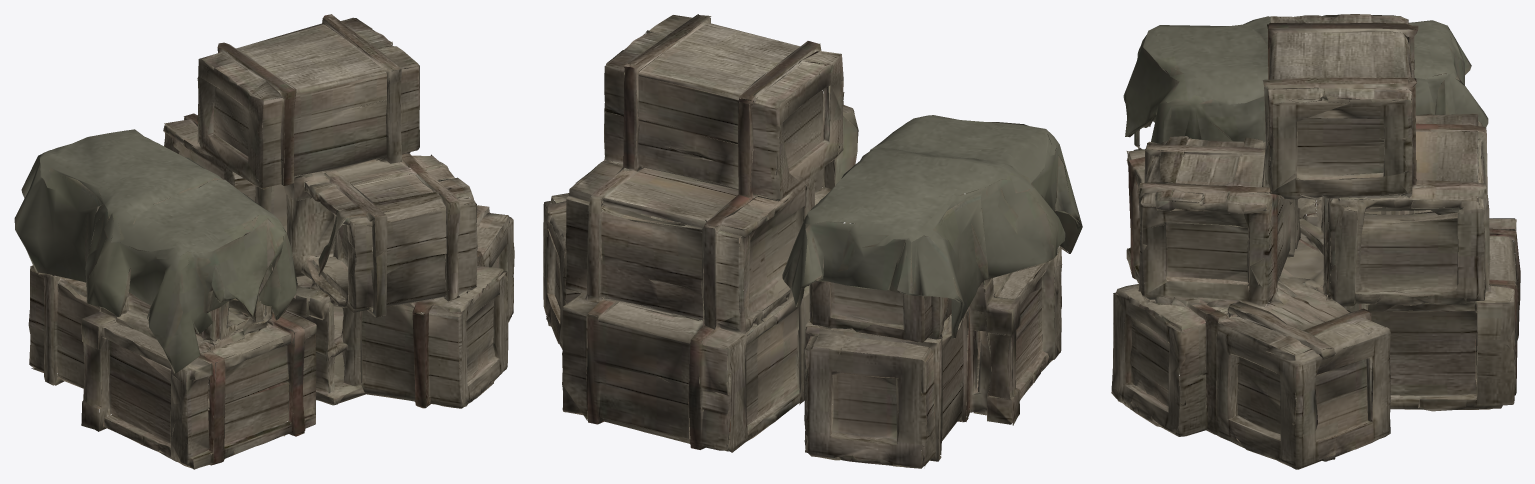
File: crate-mound.glb
3 renders of one model, left to right at view 1: azimuth 30°, elevation 25°; view 2: azimuth 150°, elevation 25°; view 3: azimuth 270°, elevation 25°, orthographic. The views are drawn at different scales.
Visible parts, largest first — view 1: Mesh_0; view 2: Mesh_0; view 3: Mesh_0.
Part boxes in pixels (bbox=[...]): Mesh_0: bbox=[14, 14, 514, 469]; Mesh_0: bbox=[543, 14, 1082, 468]; Mesh_0: bbox=[1111, 14, 1520, 469].
Size of the model in its own units: 1.9 by 1.21 by 1.37.
Materials: 1 (1 with a texture image).
